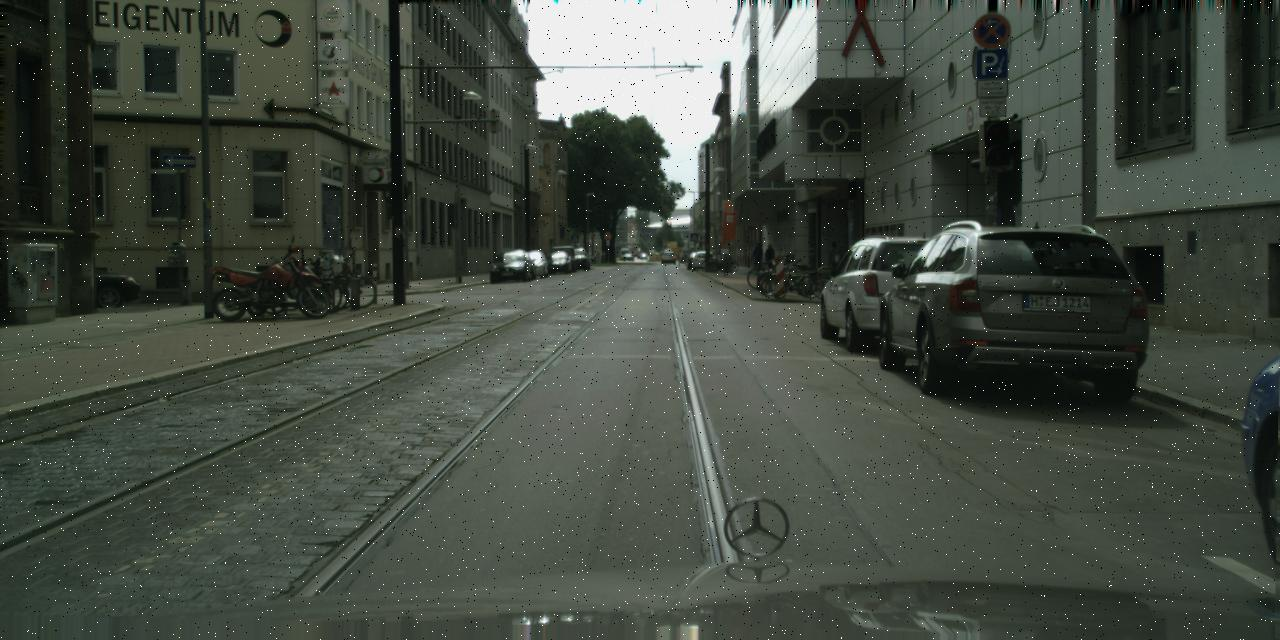ped: (826, 242, 844, 287), (764, 244, 776, 272), (752, 242, 762, 272), (678, 249, 684, 266)
